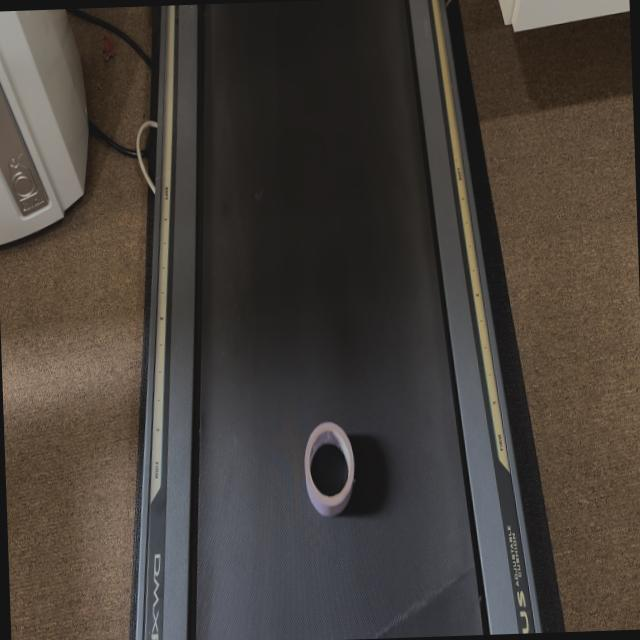Recycle: (302, 419, 356, 520)
